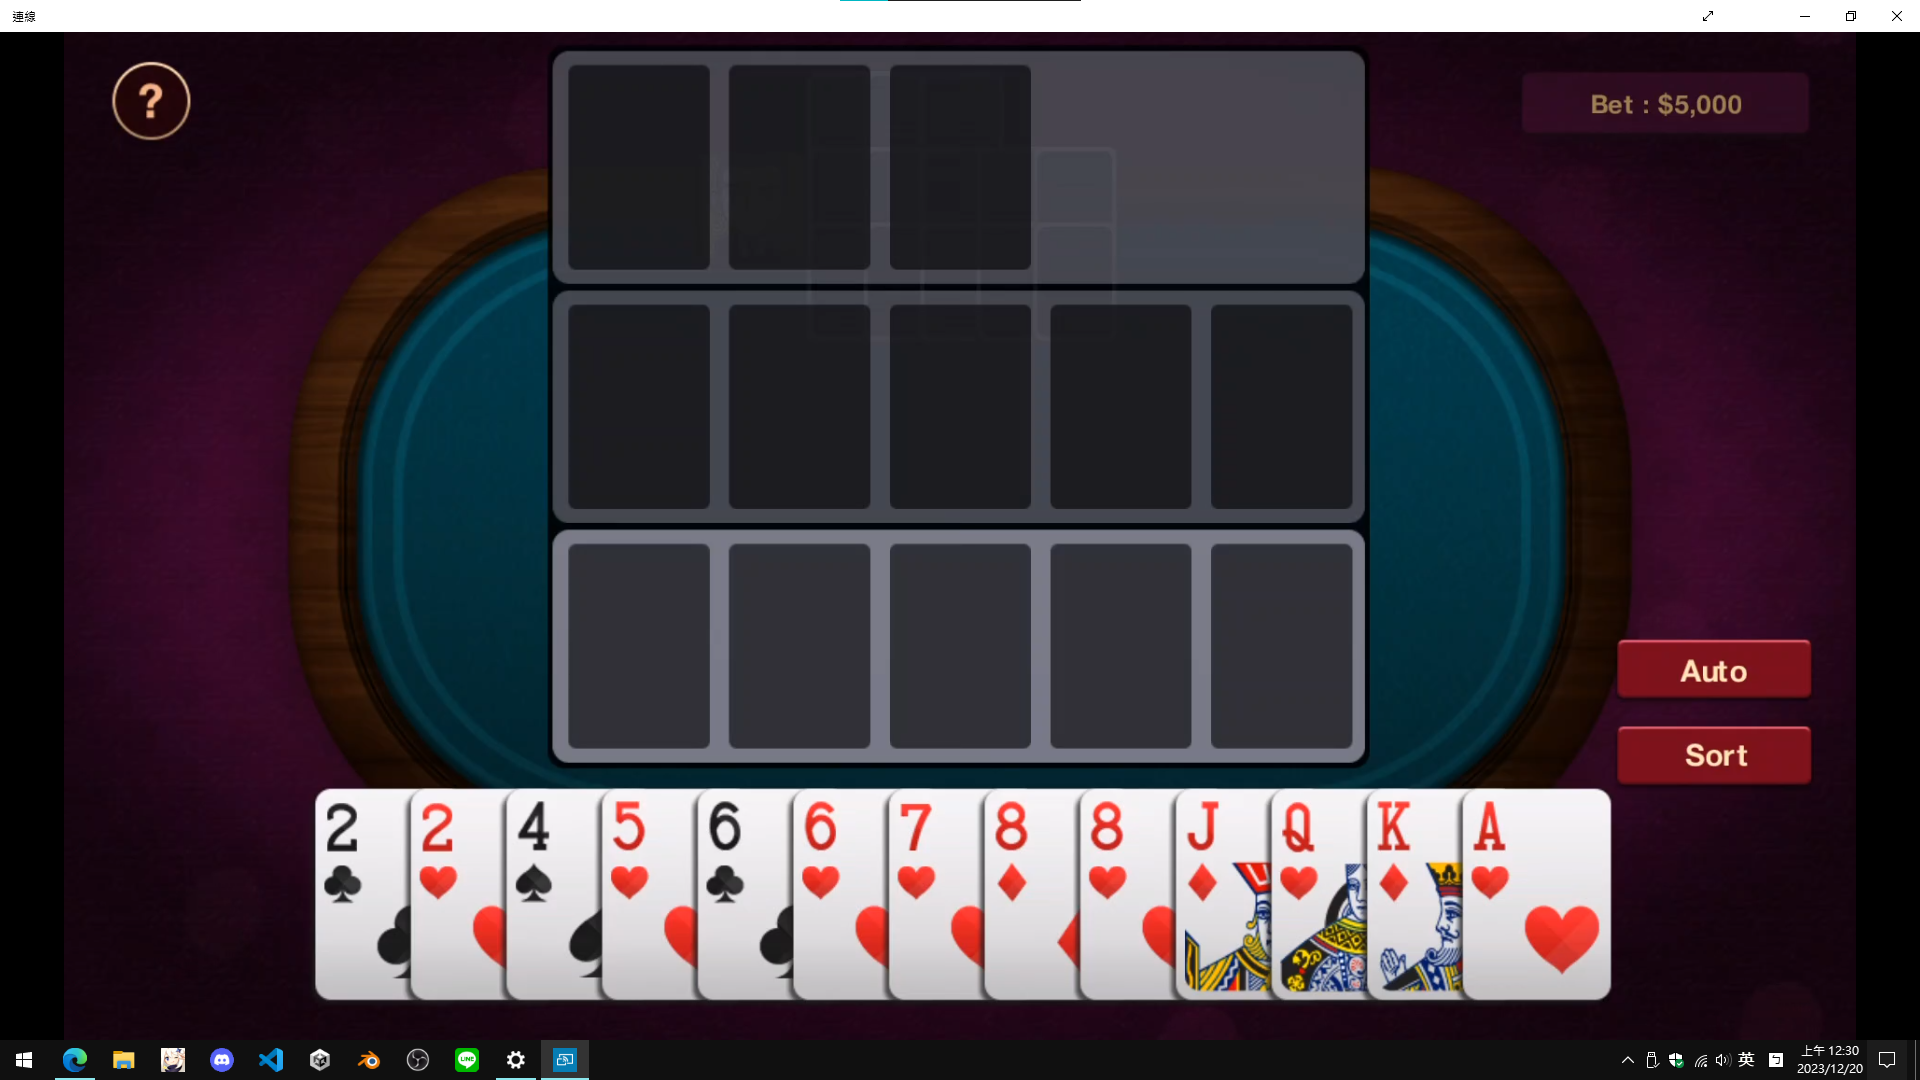2C: (323, 798, 365, 911)
2H: (417, 799, 463, 909)
4S: (513, 798, 560, 916)
5H: (608, 796, 654, 907)
6C: (704, 796, 756, 915)
6H: (800, 793, 848, 903)
7H: (895, 798, 943, 905)
8D: (993, 796, 1034, 909)
8H: (1083, 798, 1131, 909)
AH: (1470, 795, 1513, 910)
JD: (1183, 796, 1226, 910)
KD: (1371, 795, 1416, 907)
QH: (1278, 798, 1321, 910)
